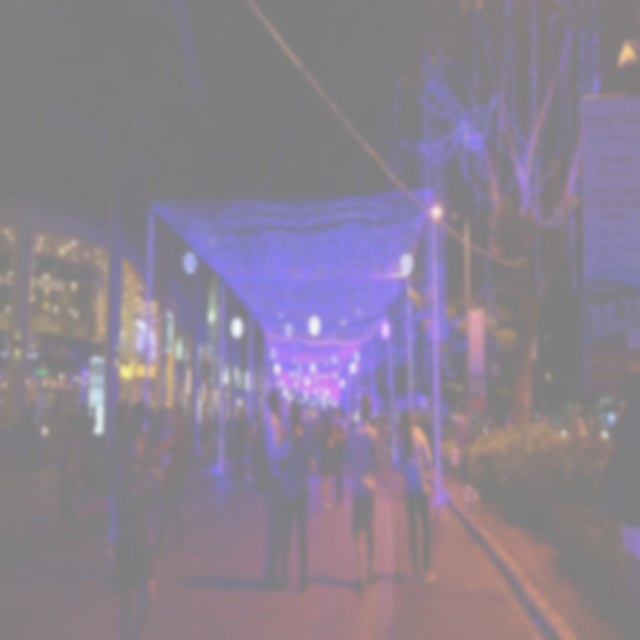pessoa: (108, 414, 168, 638), (596, 361, 640, 638), (248, 386, 294, 592), (270, 397, 316, 596), (394, 404, 438, 587), (344, 392, 382, 591), (414, 402, 516, 462), (150, 398, 186, 554), (103, 399, 133, 562), (48, 418, 84, 542), (536, 398, 600, 446), (7, 396, 40, 470), (125, 393, 172, 439), (374, 408, 401, 486), (318, 410, 339, 510), (329, 406, 344, 508), (232, 405, 248, 492), (76, 400, 98, 456), (247, 407, 263, 477), (303, 410, 321, 458), (613, 392, 626, 422)
